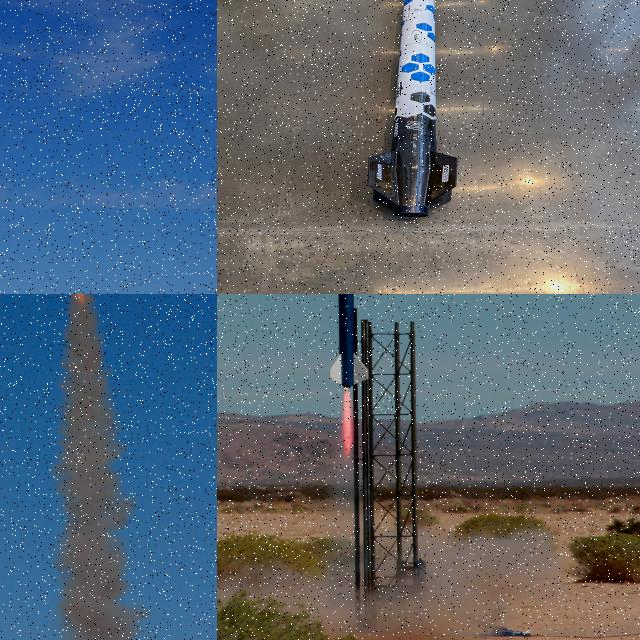Rocket: (367, 0, 458, 218), (328, 294, 371, 389)
